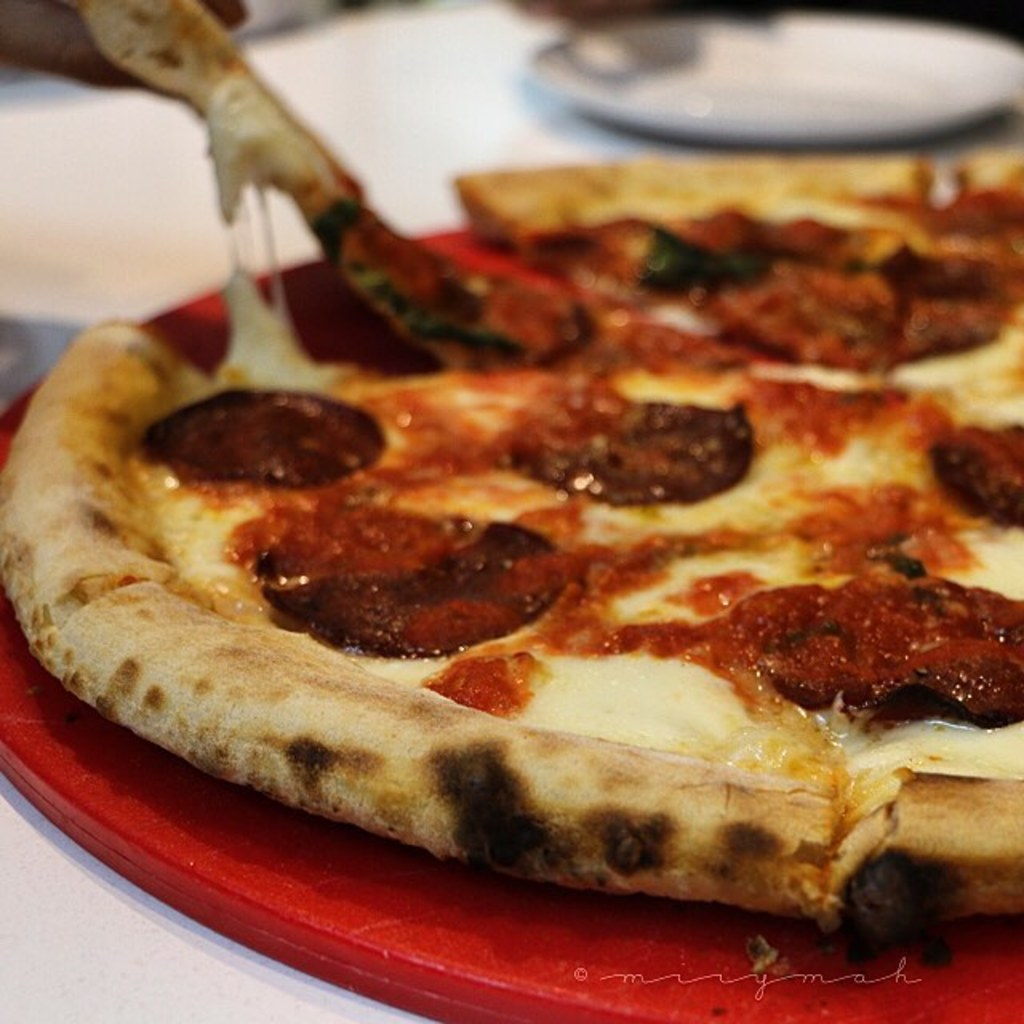Pizza: (0, 147, 1022, 966)
